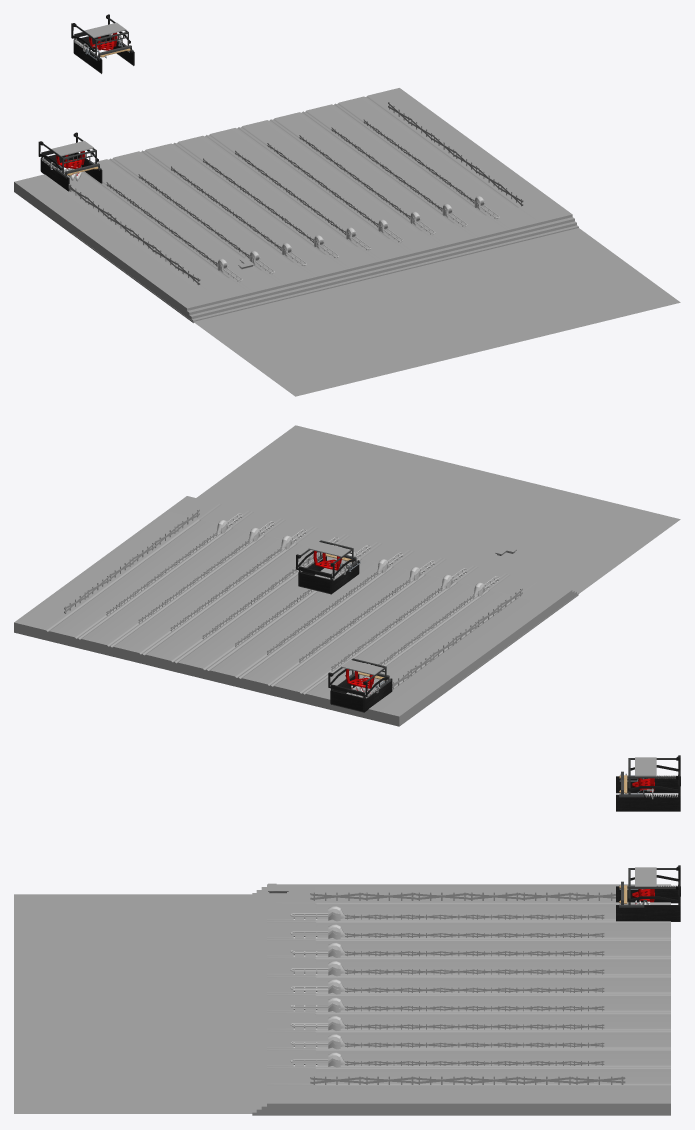
Rendered from WorkingOnBowlingAlley.fbx.
The picture shows the model from 3 angles, top to bottom: view 1: azimuth 30°, elevation 25°; view 2: azimuth 150°, elevation 25°; view 3: azimuth 270°, elevation 25°; orthographic projection. The views are drawn at different scales.
Visible parts, largest first — view 1: BowlingAlley:BowlingAlley:BowlingAlley:pCube1, BowlingAlley:BowlingAlley:BowlingAlley:pPlane1, BowlingAlley:BowlingAlley:BowlingAlley:pCube111, BowlingAlley:BowlingAlley:pCube111; view 2: BowlingAlley:BowlingAlley:BowlingAlley:pCube1, BowlingAlley:BowlingAlley:BowlingAlley:pPlane1, BowlingAlley:BowlingAlley:BowlingAlley:pCube111, BowlingAlley:BowlingAlley:pCube111; view 3: BowlingAlley:BowlingAlley:BowlingAlley:pCube1, BowlingAlley:BowlingAlley:BowlingAlley:pPlane1, BowlingAlley:BowlingAlley:pCube111, BowlingAlley:BowlingAlley:BowlingAlley:pCube111.
Part boxes in pixels (<box>): BowlingAlley:BowlingAlley:BowlingAlley:pCube1: <box>14,88,578,323</box>; BowlingAlley:BowlingAlley:BowlingAlley:pPlane1: <box>73,228,680,396</box>; BowlingAlley:BowlingAlley:BowlingAlley:pCube111: <box>38,132,102,191</box>; BowlingAlley:BowlingAlley:pCube111: <box>71,14,134,73</box>; BowlingAlley:BowlingAlley:BowlingAlley:pCube1: <box>14,496,578,726</box>; BowlingAlley:BowlingAlley:BowlingAlley:pPlane1: <box>196,425,680,679</box>; BowlingAlley:BowlingAlley:BowlingAlley:pCube111: <box>328,669,392,712</box>; BowlingAlley:BowlingAlley:pCube111: <box>296,551,359,594</box>; BowlingAlley:BowlingAlley:BowlingAlley:pCube1: <box>252,884,670,1115</box>; BowlingAlley:BowlingAlley:BowlingAlley:pPlane1: <box>14,894,252,1113</box>; BowlingAlley:BowlingAlley:pCube111: <box>616,755,680,811</box>; BowlingAlley:BowlingAlley:BowlingAlley:pCube111: <box>616,865,680,921</box>.
Bounding box in the file's own units: 23.91 × 8.91 × 30.68.
